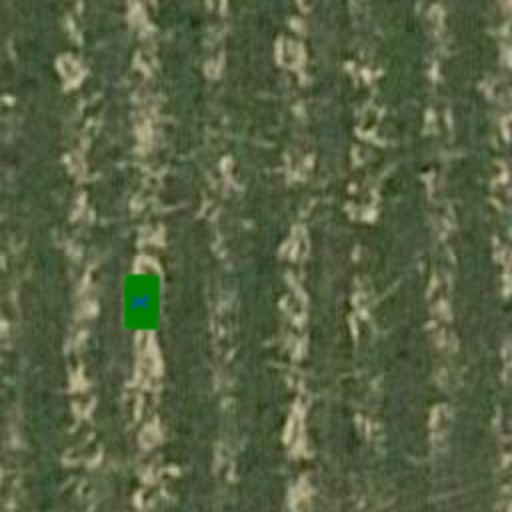rectangle: (112, 272, 172, 332)
